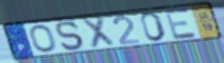0: (139, 11, 167, 42)
2: (112, 14, 144, 46)
E: (163, 7, 200, 41)
O: (28, 23, 58, 53)
S: (55, 20, 87, 52)
X: (80, 15, 117, 50)
